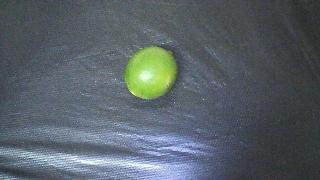LOCAL: (124, 46, 178, 100)
